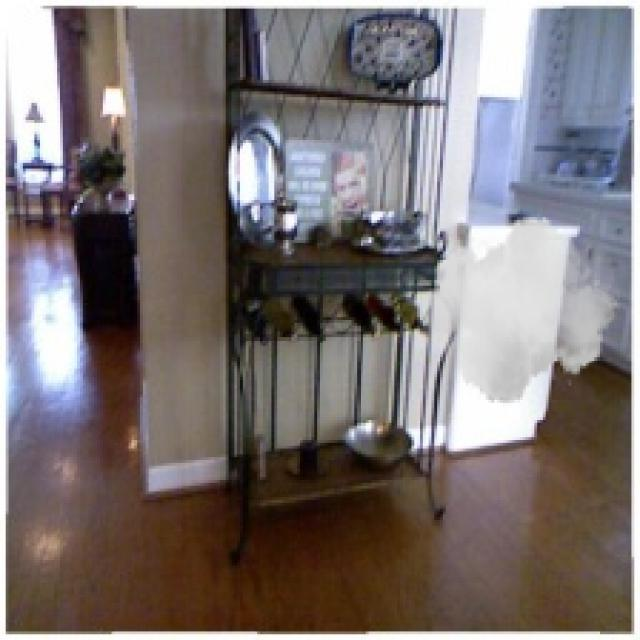Smoke: (417, 208, 620, 412)
